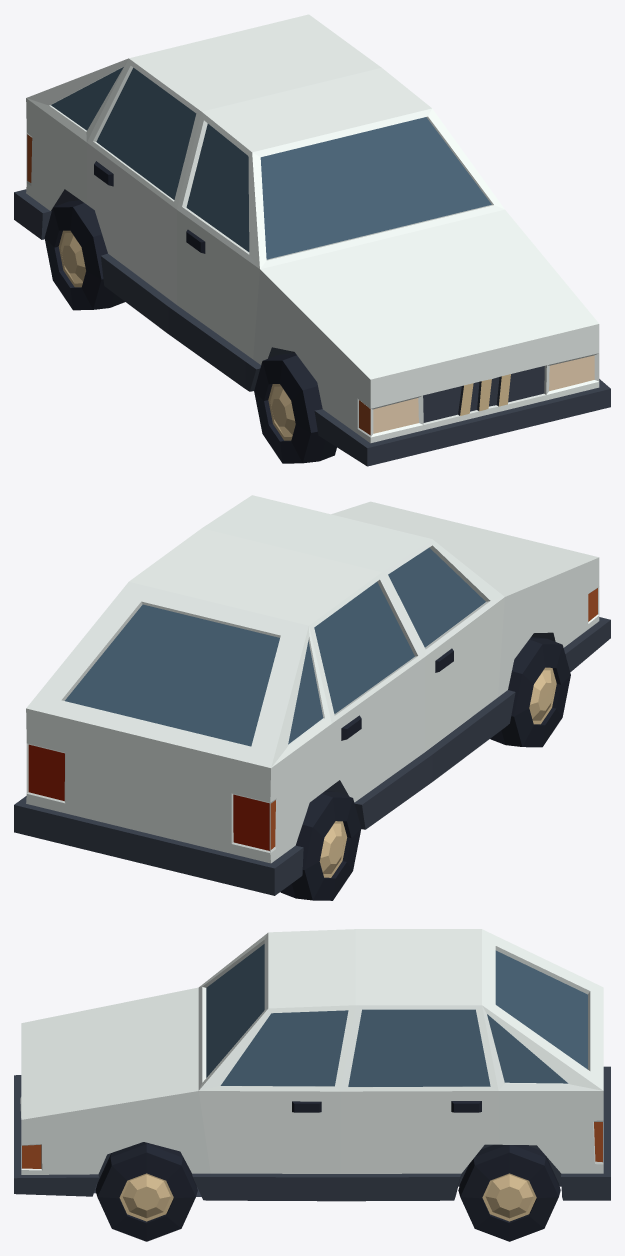
The model's file is SSJ_unoLowPoly.fbx.
The picture shows the model from 3 angles, top to bottom: view 1: azimuth 30°, elevation 25°; view 2: azimuth 150°, elevation 25°; view 3: azimuth 270°, elevation 25°; orthographic projection. The views are drawn at different scales.
Parts seen in each view (by area): view 1: Cube; view 2: Cube; view 3: Cube.
Boxes of the visible parts, x1=… form: Cube: x1=14, y1=14, x2=610, y2=466; Cube: x1=14, y1=495, x2=610, y2=900; Cube: x1=14, y1=929, x2=610, y2=1241.
Size of the model in its own units: 462 by 423 by 1034.
